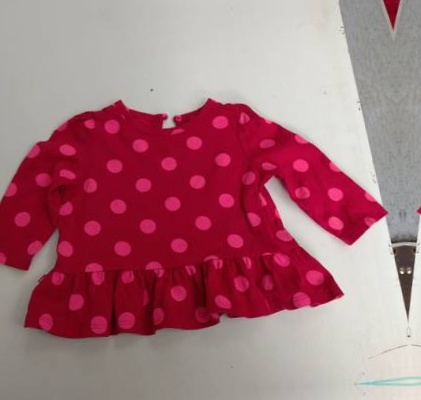Dress: (0, 65, 397, 334), (407, 43, 421, 312)
